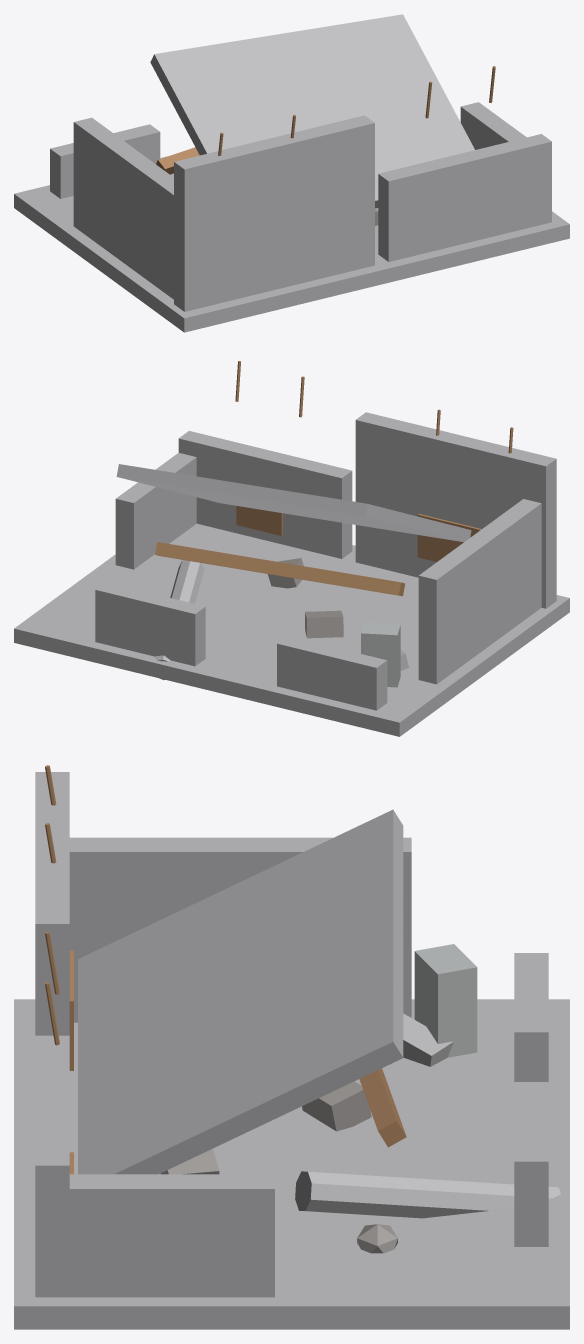
Rendered from abandoned_facility.glb.
The picture shows the model from 3 angles, top to bottom: view 1: azimuth 30°, elevation 25°; view 2: azimuth 150°, elevation 25°; view 3: azimuth 270°, elevation 25°; orthographic projection. The views are drawn at different scales.
Visible parts, largest first — view 1: RoofSlab, WallBackA, WallBackB, Pad, WallSideL, StubL, WallSideR, RoofBeam; view 2: Pad, WallBackA, WallSideL, WallBackB, RoofSlab, StubR, StubL, WallSideR, RoofBeam, Terminal, Pillar, RustA (+3 smaller); view 3: RoofSlab, Pad, WallSideR, WallSideL, WallBackB, WallBackA, Pillar, Terminal, StubR, StubL, Rubble1, RoofBeam (+3 smaller).
Boxes of the visible parts, x1,y1,x2,y2 form: RoofSlab: [150, 14, 474, 208]; WallBackA: [174, 115, 374, 311]; WallBackB: [378, 134, 551, 261]; Pad: [14, 156, 569, 332]; WallSideL: [73, 117, 173, 299]; StubL: [50, 124, 160, 198]; WallSideR: [460, 102, 526, 149]; RoofBeam: [156, 147, 199, 174]; Pad: [14, 523, 569, 736]; WallBackA: [355, 412, 556, 608]; WallSideL: [418, 499, 541, 684]; WallBackB: [178, 431, 352, 558]; RoofSlab: [116, 464, 471, 542]; StubR: [95, 582, 205, 666]; StubL: [277, 636, 387, 710]; WallSideR: [115, 452, 196, 569]; RoofBeam: [155, 542, 405, 596]; Terminal: [361, 622, 400, 687]; Pillar: [155, 560, 204, 679]; RustA: [417, 514, 481, 561]; RoofSlab: [78, 809, 403, 1174]; Pad: [14, 999, 569, 1329]; WallSideR: [52, 1174, 274, 1297]; WallSideL: [69, 837, 411, 1022]; WallBackB: [35, 1035, 69, 1297]; WallBackA: [35, 772, 69, 1035]; Pillar: [295, 1171, 560, 1218]; Terminal: [414, 944, 477, 1057]; StubR: [514, 1082, 548, 1246]; StubL: [514, 953, 548, 1081]; Rubble1: [302, 1081, 371, 1131]; RoofBeam: [359, 1068, 406, 1147].
Bounding box in the file's own units: 8.5 × 3.94 × 6.5.
